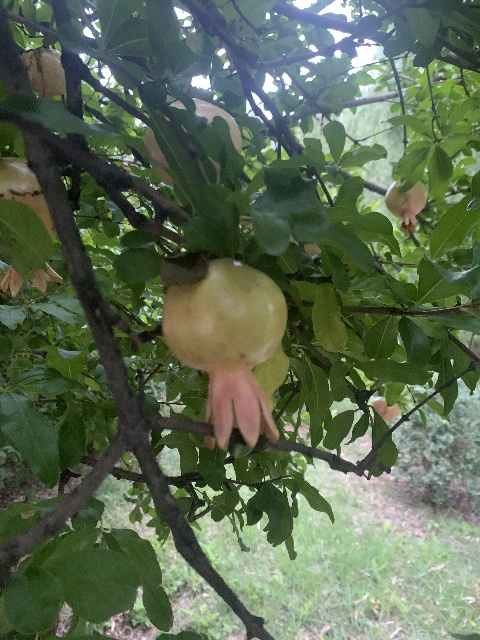mid-growth: (160, 258, 290, 450), (0, 158, 61, 297), (384, 178, 427, 234)
